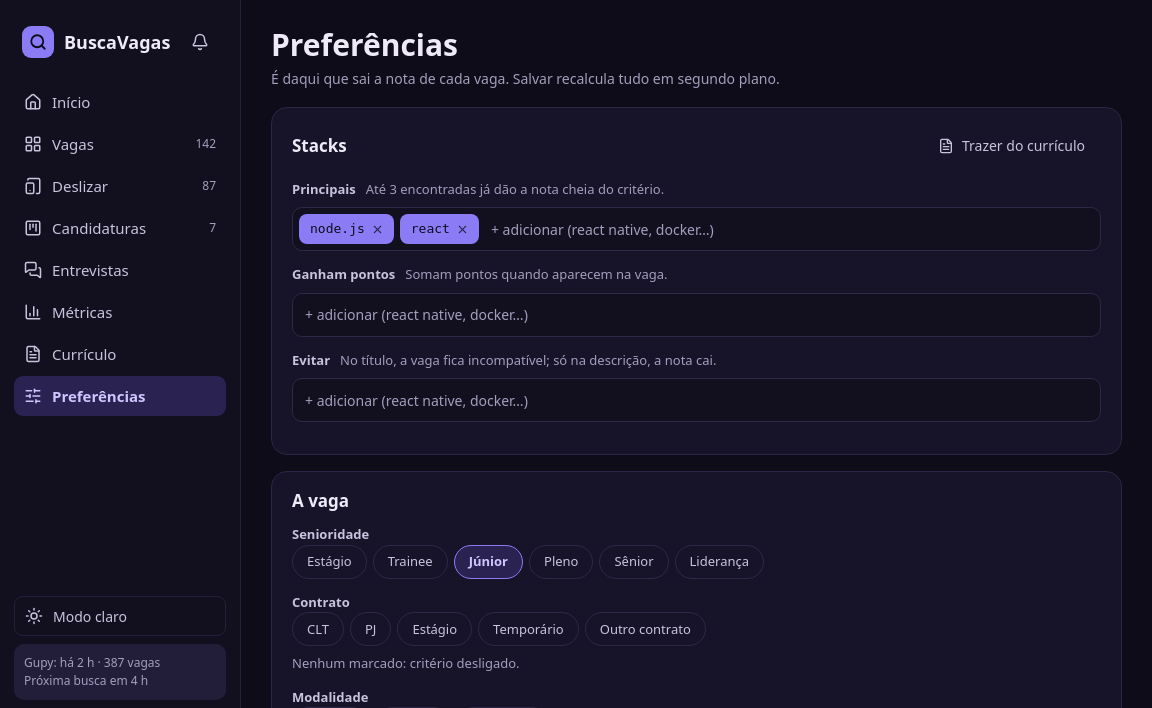
Scenario: Preferências › "Trazer do currículo" sem nada reconhecido aponta para o Currículo
This screenshot has width=1152, height=708.
Click the button "Trazer do currículo".
click(1011, 146)  # box [922,126,1101,166]
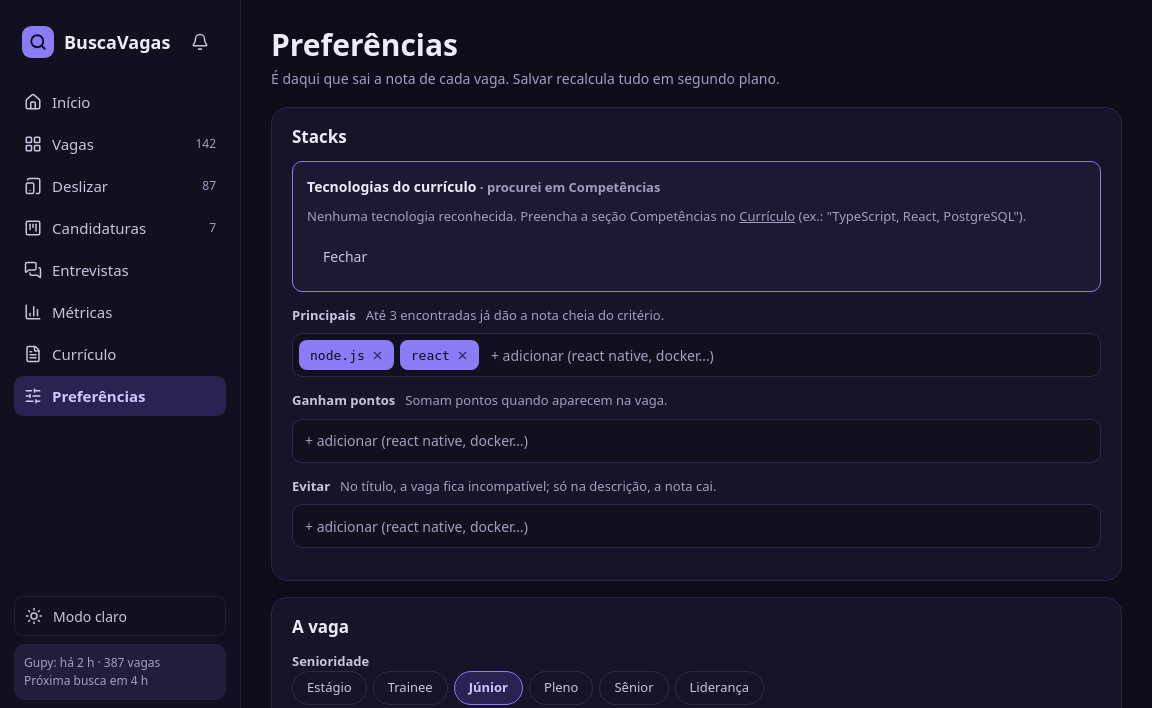
Now the text "Nenhuma tecnologia reconhecida" is shown, box [307,207,736,225]
